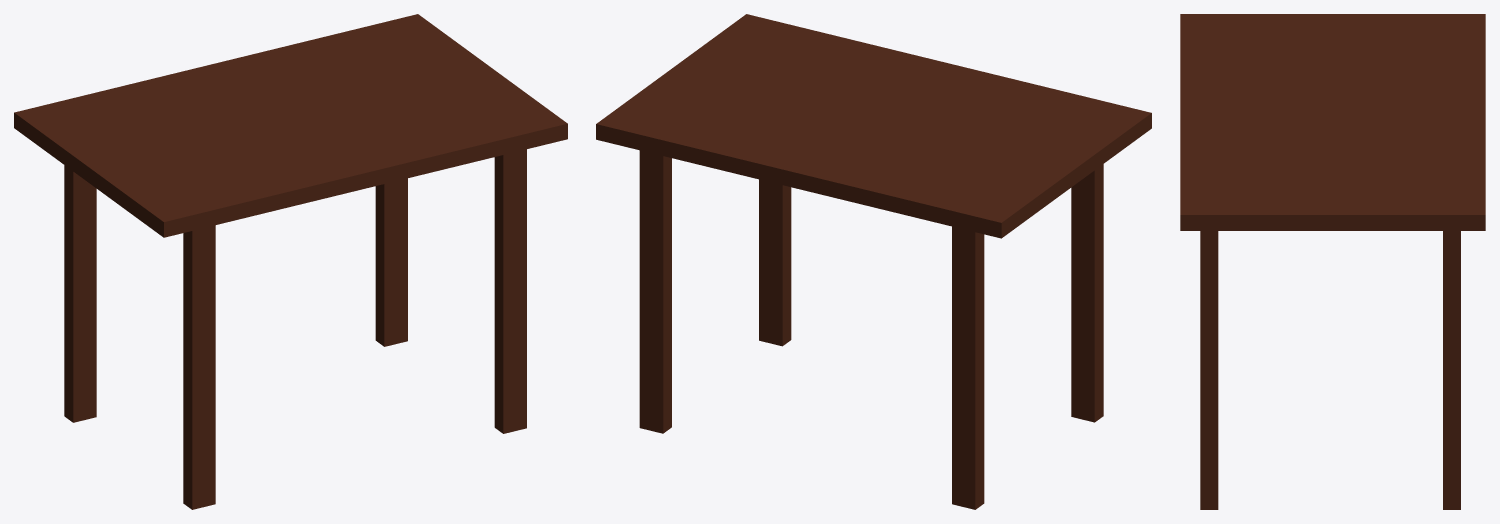
The model's file is table.fbx.
The picture shows the model from 3 angles, left to right: view 1: azimuth 30°, elevation 25°; view 2: azimuth 150°, elevation 25°; view 3: azimuth 270°, elevation 25°; orthographic projection. The views are drawn at different scales.
Parts seen in each view (by area): view 1: Plane; view 2: Plane; view 3: Plane.
Part boxes in pixels (x1,y1,x2,y2): Plane: [14, 14, 567, 509]; Plane: [596, 14, 1151, 509]; Plane: [1180, 14, 1485, 509].
Size of the model in its own units: 83.95 by 60.43 by 53.93.
